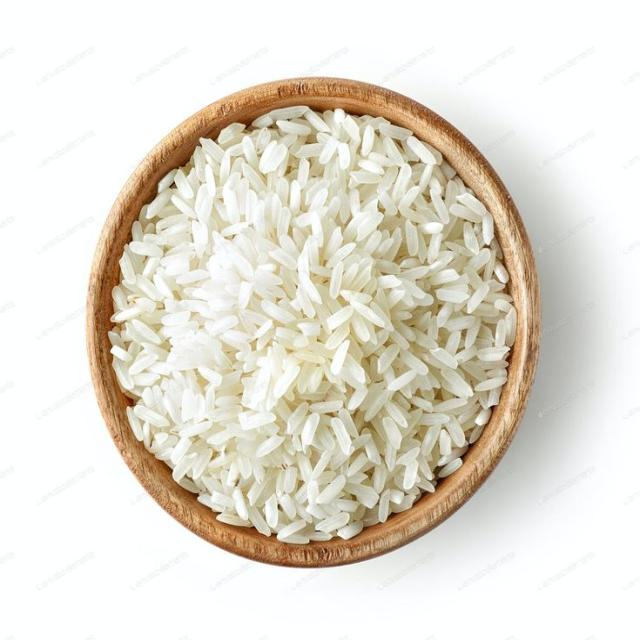rice: (109, 106, 516, 544)
